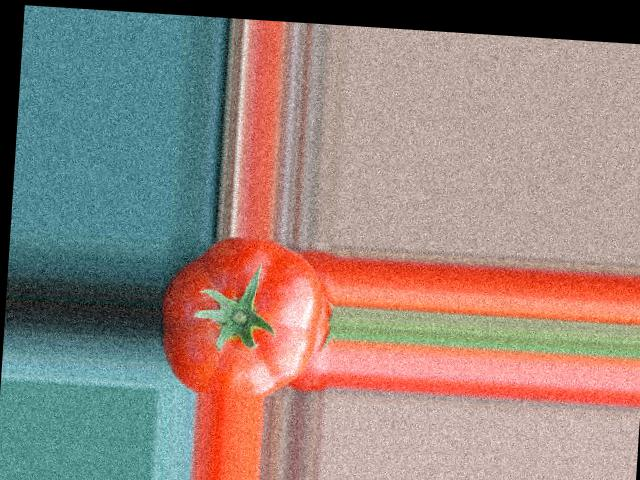tomato: (157, 231, 326, 400)
